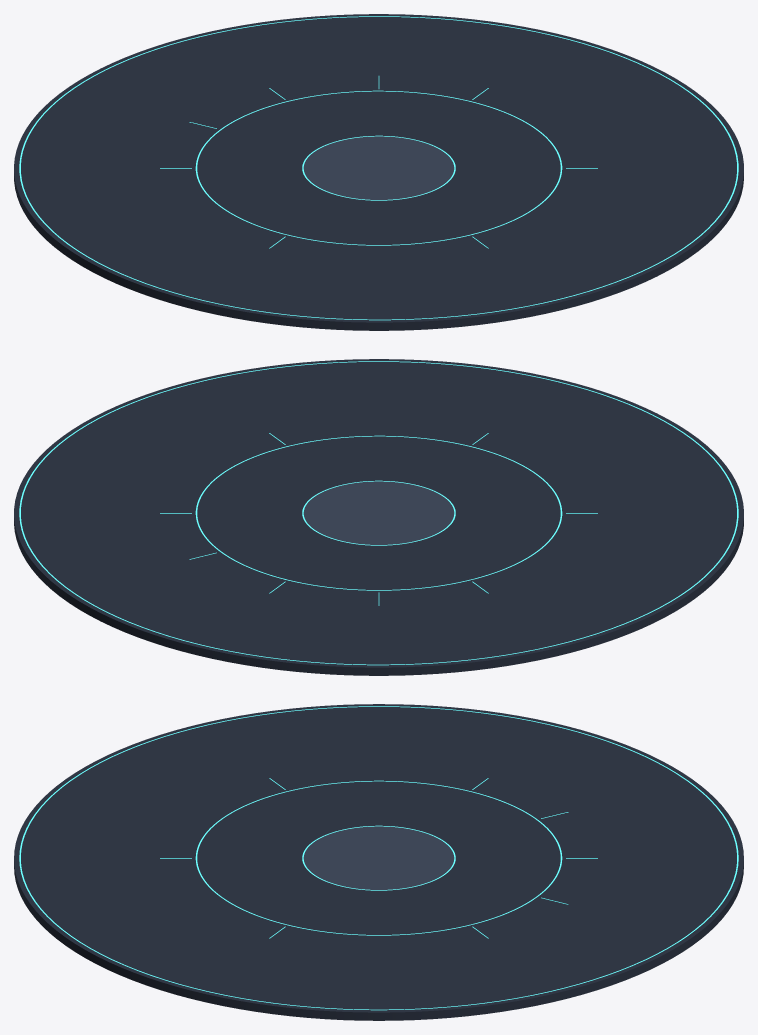
3 views of the same model, one above another, from view 1: azimuth 30°, elevation 25°; view 2: azimuth 150°, elevation 25°; view 3: azimuth 270°, elevation 25° (orthographic).
Visible parts, largest first — view 1: nexo_floor.lod0; view 2: nexo_floor.lod0; view 3: nexo_floor.lod0.
Part boxes in pixels (x1,y1,x2,y2): nexo_floor.lod0: (14, 14, 743, 330); nexo_floor.lod0: (14, 359, 743, 675); nexo_floor.lod0: (14, 704, 743, 1020).
Bounding box in the file's own units: 48 × 0.6094 × 48.
